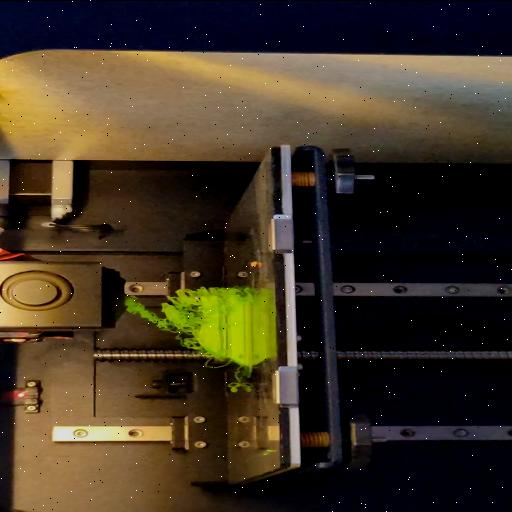spaghetti: (124, 284, 206, 350), (228, 368, 243, 396), (202, 358, 226, 368), (242, 287, 248, 295)
